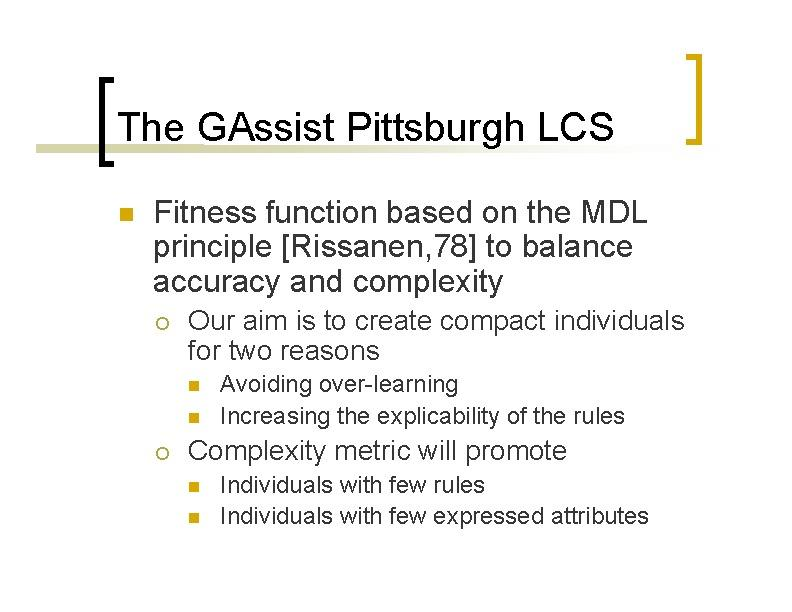paragraph: (144, 181, 718, 545)
title: (117, 103, 621, 160)
